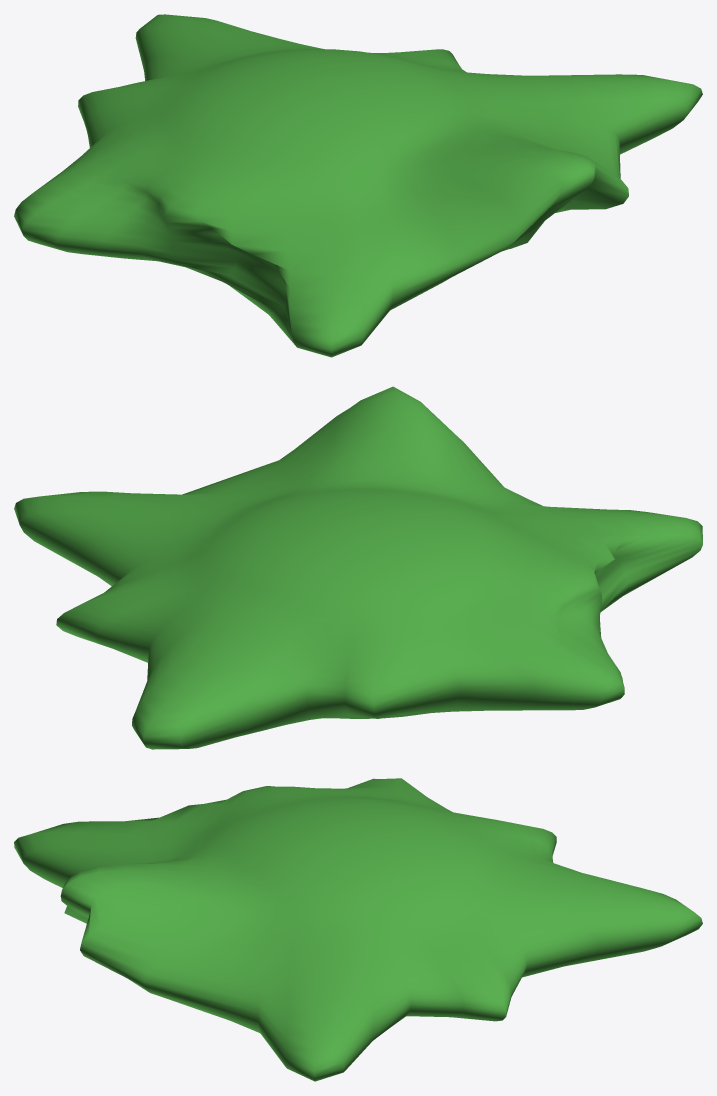
File: Player model.fbx
The picture shows the model from 3 angles, top to bottom: view 1: azimuth 30°, elevation 25°; view 2: azimuth 150°, elevation 25°; view 3: azimuth 270°, elevation 25°; orthographic projection. The views are drawn at different scales.
Visible parts, largest first — view 1: pSphere1; view 2: pSphere1; view 3: pSphere1.
Boxes of the visible parts, x1=… form: pSphere1: x1=14, y1=14, x2=702, y2=357; pSphere1: x1=14, y1=386, x2=702, y2=749; pSphere1: x1=14, y1=778, x2=702, y2=1081.
Bounding box in the file's own units: 3.61 × 0.8649 × 3.58.
